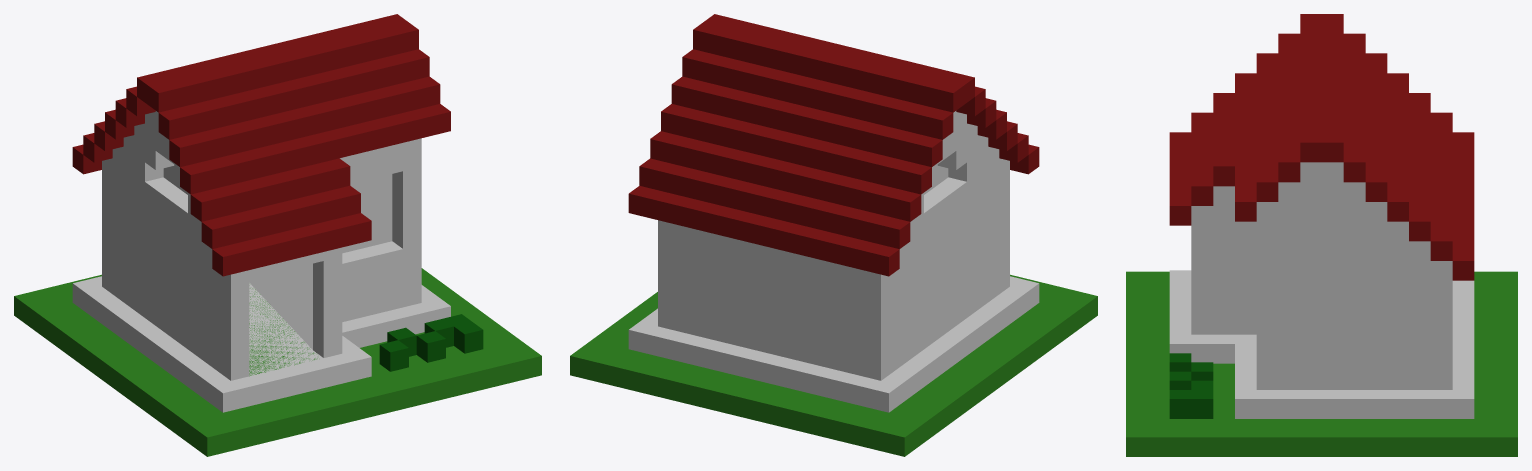
3 views of the same model, side by side, from view 1: azimuth 30°, elevation 25°; view 2: azimuth 150°, elevation 25°; view 3: azimuth 270°, elevation 25° (orthographic).
Parts seen in each view (by area): view 1: house_12; view 2: house_12; view 3: house_12.
Part boxes in pixels (x1,y1,x2,y2): house_12: (14,14,541,456); house_12: (570,14,1097,456); house_12: (1126,14,1517,456).
Bounding box in the file's own units: 4.5 × 3.75 × 4.5.
